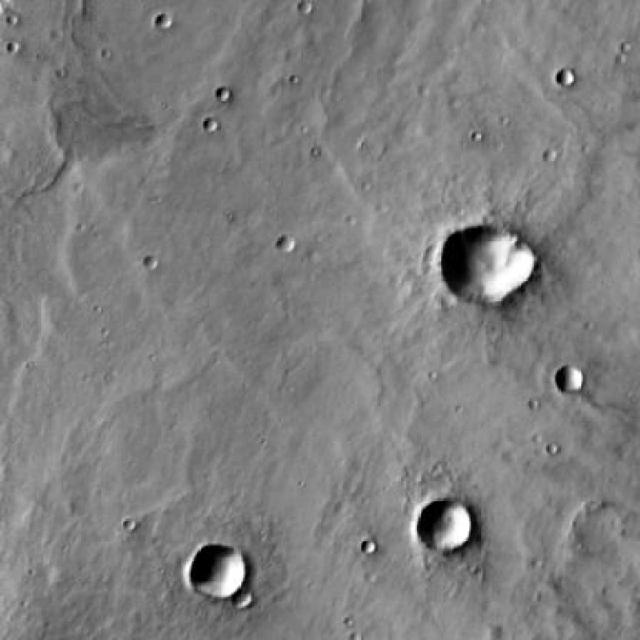crater: (444, 221, 530, 304), (189, 542, 249, 600), (420, 498, 477, 552), (555, 370, 583, 396), (0, 0, 26, 18), (234, 593, 254, 612), (276, 237, 295, 255), (556, 68, 575, 84), (219, 89, 236, 105)
